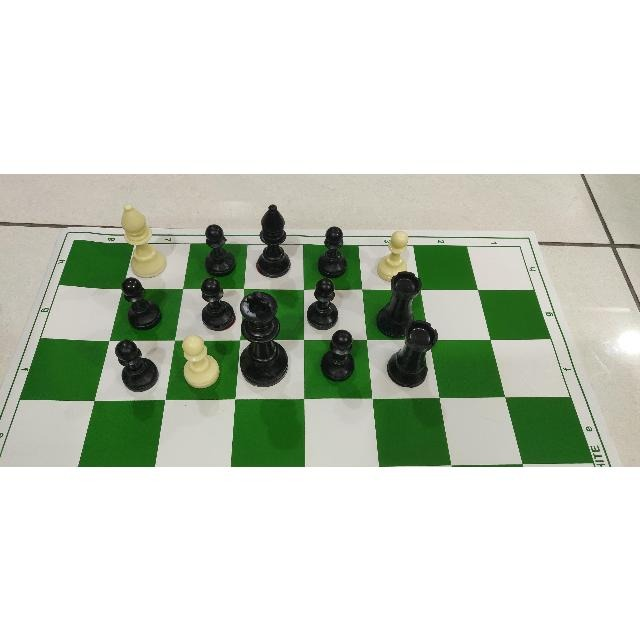black-bishop: (254, 201, 294, 278), (256, 203, 291, 276)
black-king: (238, 288, 290, 388), (240, 289, 288, 386)
black-pawn: (113, 338, 159, 394), (113, 337, 159, 392), (120, 275, 163, 331), (196, 275, 236, 333), (120, 276, 161, 330), (196, 276, 235, 331), (319, 328, 356, 382), (304, 276, 340, 330), (202, 222, 236, 276), (320, 329, 355, 381), (305, 277, 338, 329), (316, 225, 348, 277), (318, 226, 348, 278)
black-rook: (385, 318, 440, 388), (387, 319, 438, 386), (375, 269, 423, 337), (376, 271, 422, 335)
white-bishop: (120, 200, 168, 279), (121, 202, 167, 277)
white-pawn: (179, 333, 221, 391), (179, 333, 219, 389), (376, 228, 410, 282), (377, 229, 409, 281)
